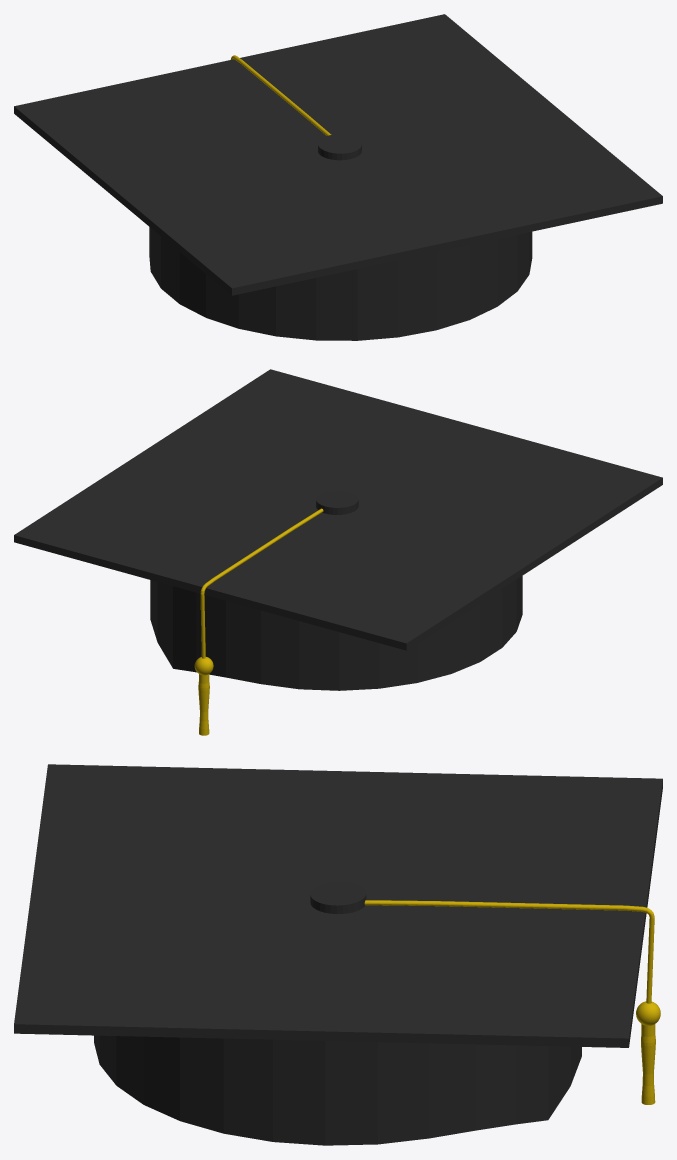
File: gradcap.glb
3 renders of one model, top to bottom at view 1: azimuth 30°, elevation 25°; view 2: azimuth 150°, elevation 25°; view 3: azimuth 270°, elevation 25°, orthographic. The views are drawn at different scales.
Parts seen in each view (by area): view 1: Object_4, Object_5; view 2: Object_4, Object_5; view 3: Object_4, Object_5.
Boxes of the visible parts, <box> form: Object_4: <box>14,14,662,340</box>; Object_5: <box>230,55,331,135</box>; Object_4: <box>14,369,662,690</box>; Object_5: <box>194,508,323,735</box>; Object_4: <box>14,764,662,1145</box>; Object_5: <box>364,900,660,1104</box>.
Size of the model in its own units: 563716 by 191388 by 563716.
